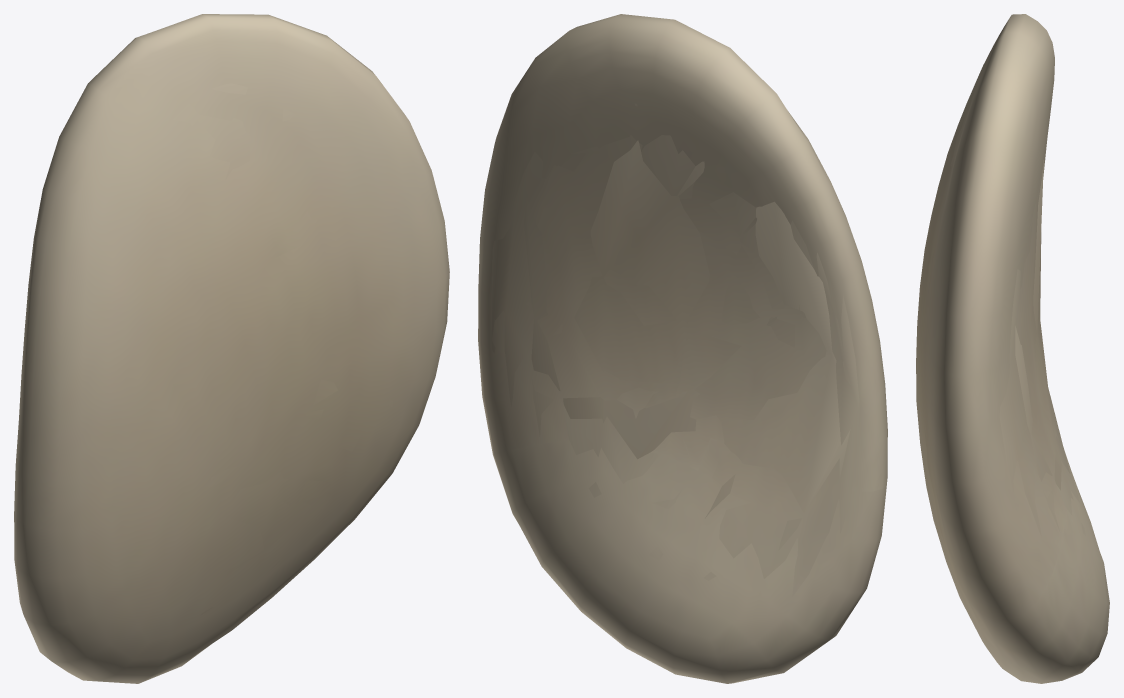
File: L Patella.fbx
3 renders of one model, left to right at view 1: azimuth 30°, elevation 25°; view 2: azimuth 150°, elevation 25°; view 3: azimuth 270°, elevation 25°, orthographic. The views are drawn at different scales.
Visible parts, largest first — view 1: L Patella high, L Patella; view 2: L Patella high, L Patella, L Patella low; view 3: L Patella high, L Patella, L Patella low.
Boxes of the visible parts, box(x1,y1,x2,y2) form: L Patella high: box(14, 14, 449, 683); L Patella: box(133, 83, 392, 615); L Patella high: box(478, 14, 887, 683); L Patella: box(491, 103, 859, 596); L Patella low: box(524, 140, 850, 550); L Patella high: box(916, 14, 1109, 683); L Patella: box(921, 84, 1085, 659); L Patella low: box(1015, 160, 1070, 490).
Size of the model in its own units: 2.15 by 3.17 by 0.842.
